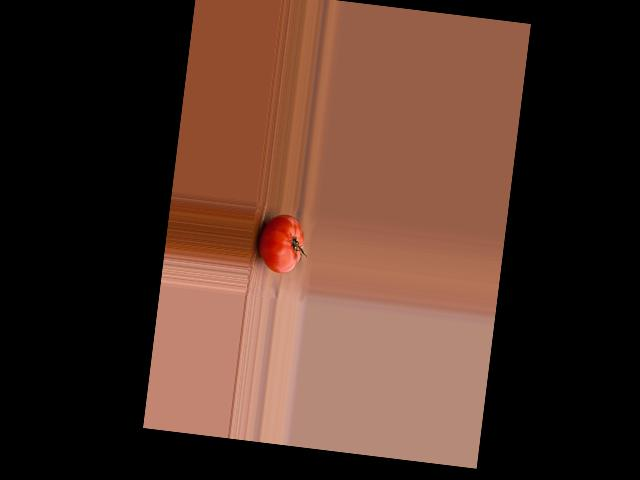tomato: (255, 212, 306, 276)
